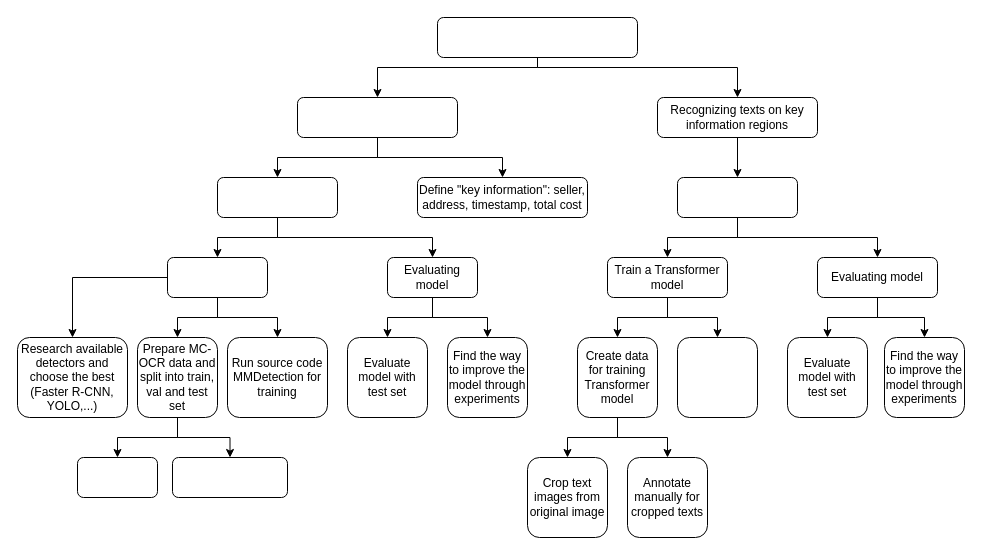
This 982x555 diagram has some shape labels left out. Each missing label, with the centre of its shape:
Convert to COCO format: point (230, 477)
Detect regions of key information on image: point (377, 117)
Download data: point (117, 477)
Key information extraction on Vietnames receipts: point (537, 37)
Object detection: point (277, 197)
Text recognition: point (737, 197)
Training a Faster R-CNN model: point (217, 277)
Use VietOCR for training: point (717, 377)
